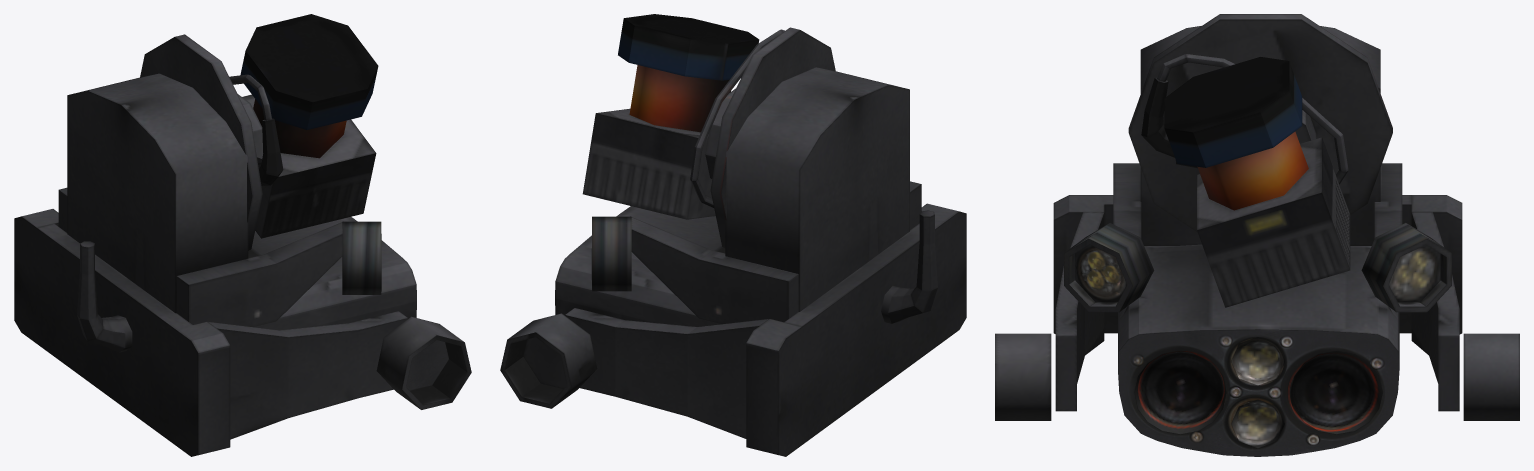
File: head.dae
3 renders of one model, left to right at view 1: azimuth 30°, elevation 25°; view 2: azimuth 150°, elevation 25°; view 3: azimuth 270°, elevation 25°, orthographic. The views are drawn at different scales.
Parts seen in each view (by area): view 1: head; view 2: head; view 3: head.
Part boxes in pixels (x1=…): head: x1=14, y1=14, x2=471, y2=456; head: x1=500, y1=14, x2=966, y2=456; head: x1=995, y1=14, x2=1519, y2=456.
Size of the model in its own units: 0.00168 by 0.00235 by 0.00177.
1 material, 1 textured.
